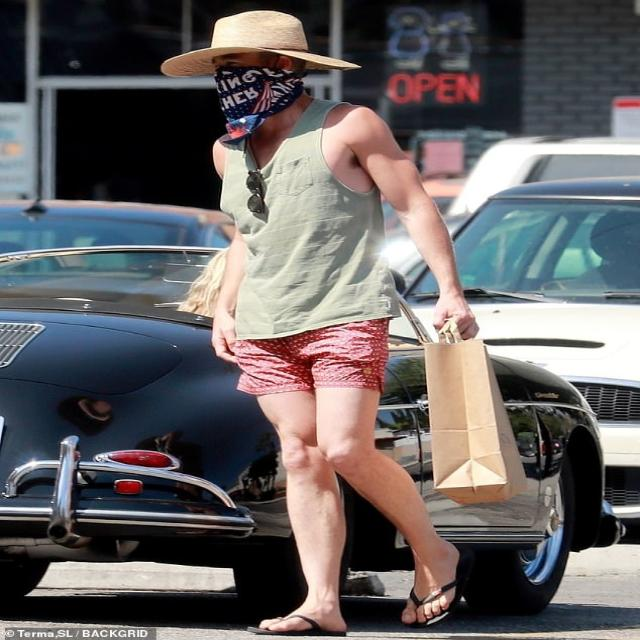hat: (158, 12, 364, 76)
